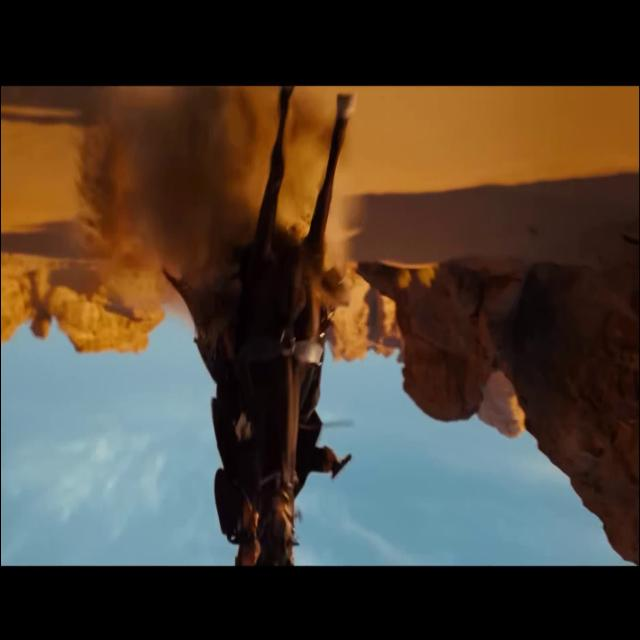weapons: (319, 432, 361, 492)
